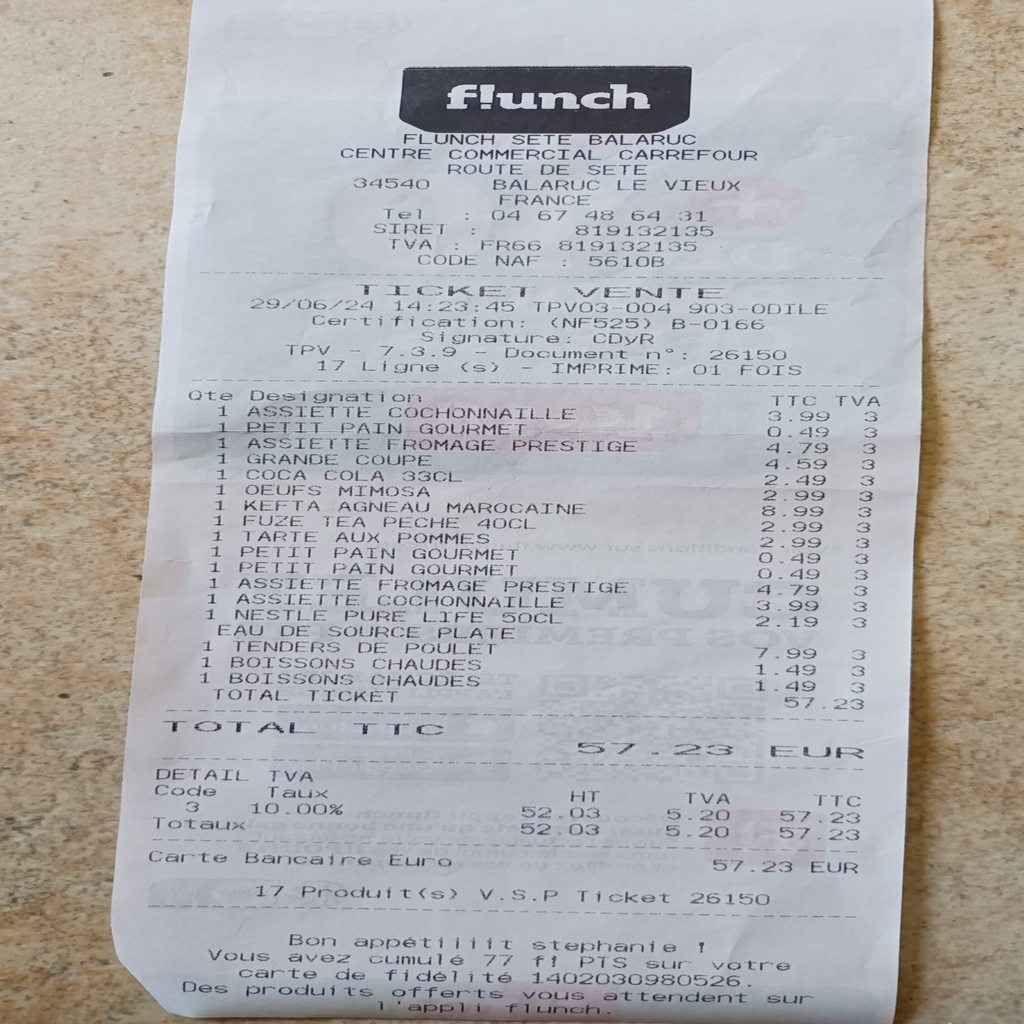recipt: (109, 6, 936, 1014)
